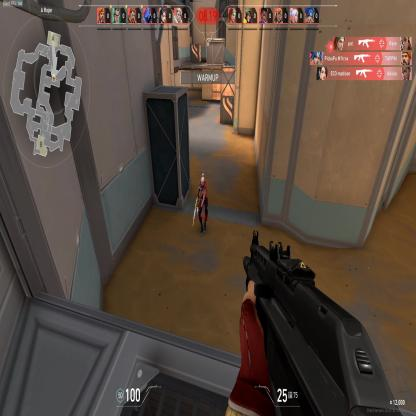enemy: (196, 171, 209, 235)
